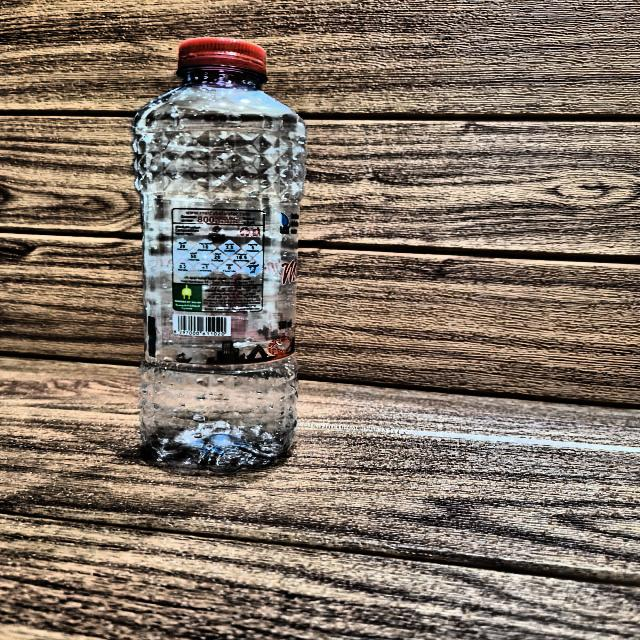Bottles: (74, 2, 380, 510)
